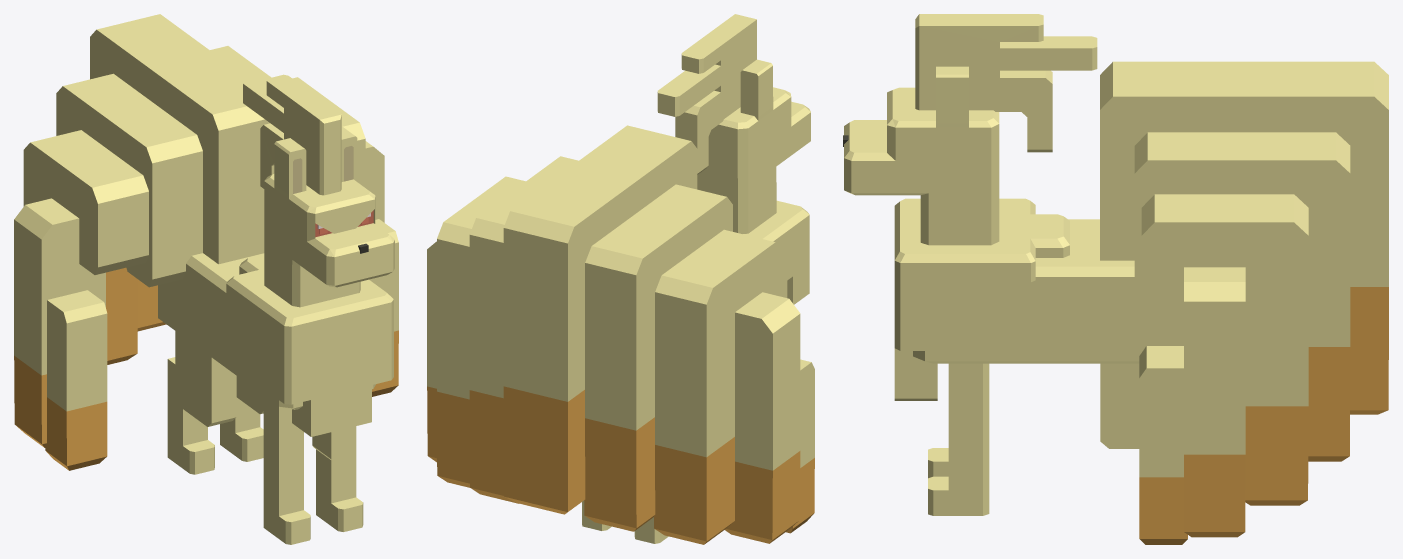
3 renders of one model, left to right at view 1: azimuth 30°, elevation 25°; view 2: azimuth 150°, elevation 25°; view 3: azimuth 270°, elevation 25°, orthographic. The views are drawn at different scales.
Parts seen in each view (by area): view 1: 0038_ninetales; view 2: 0038_ninetales; view 3: 0038_ninetales.
Boxes of the visible parts, left/top/right/bottom form: 0038_ninetales: left=14, top=14, right=398, bottom=544; 0038_ninetales: left=427, top=14, right=814, bottom=544; 0038_ninetales: left=843, top=14, right=1388, bottom=544.
Bounding box in the file's own units: 2.6 × 3.05 × 3.18.
Materials: 1 (1 with a texture image).
